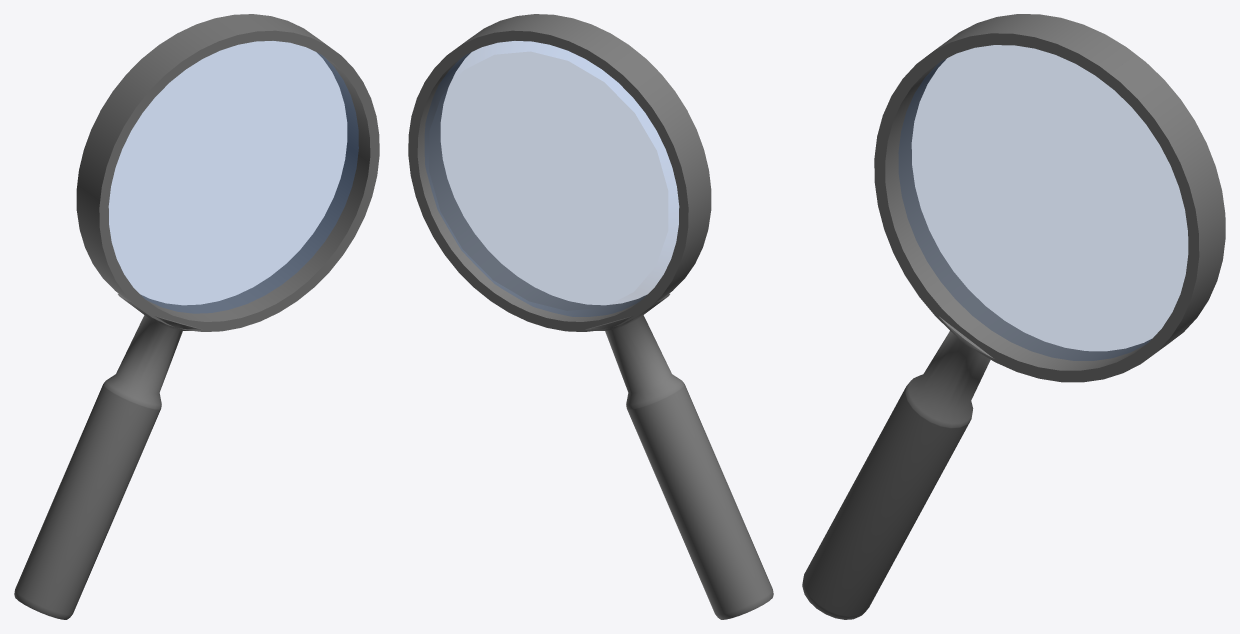
3 views of the same model, side by side, from view 1: azimuth 30°, elevation 25°; view 2: azimuth 150°, elevation 25°; view 3: azimuth 330°, elevation 25° (orthographic). The views are drawn at different scales.
Visible parts, largest first — view 1: pCylinder2, pPipe1, pCylinder1; view 2: pCylinder2, pPipe1, pCylinder1; view 3: pCylinder2, pPipe1, pCylinder1.
Boxes of the visible parts, <box> form: pCylinder2: <box>109,41,358,313</box>; pPipe1: <box>76,14,379,331</box>; pCylinder1: <box>14,293,202,619</box>; pCylinder2: <box>425,41,678,316</box>; pPipe1: <box>408,14,711,331</box>; pCylinder1: <box>585,293,773,619</box>; pCylinder2: <box>898,45,1187,360</box>; pPipe1: <box>874,14,1225,382</box>; pCylinder1: <box>802,316,993,619</box>.
Bounding box in the file's own units: 2.17 × 3.24 × 0.3382.
